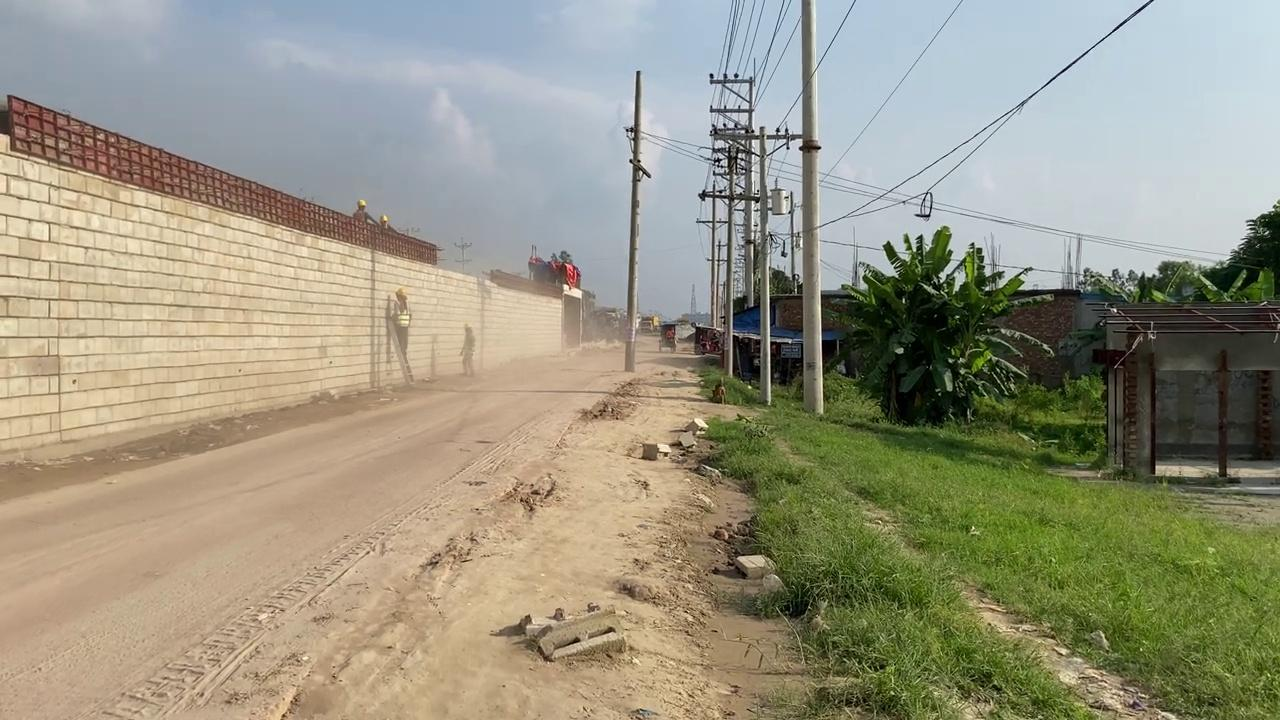Dog: (711, 382, 726, 403)
Motorcycle: (657, 322, 677, 353)
Obstacle: (720, 291, 860, 386), (521, 605, 627, 662)
Pole: (798, 0, 824, 415), (624, 69, 642, 372), (757, 126, 772, 405), (723, 143, 736, 377)
Rickshaw: (396, 330, 753, 720)
Traffic-sign: (821, 224, 1054, 426)
Tree: (640, 314, 660, 332), (649, 315, 660, 331)
Upstairs: (0, 94, 582, 456)
